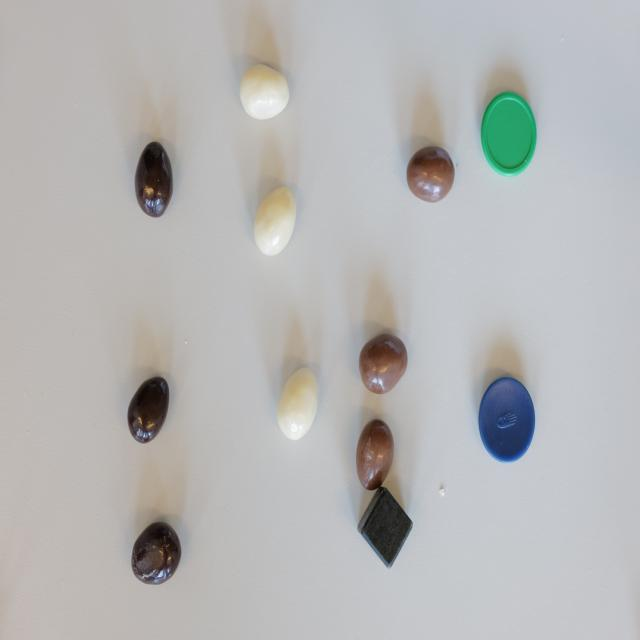Jelly_Black: (131, 522, 181, 584), (127, 377, 169, 444), (136, 142, 172, 216)
Jelly_Milk: (358, 332, 408, 398), (354, 418, 394, 493), (406, 144, 455, 204)
Jelly_White: (276, 364, 320, 442), (252, 185, 298, 258), (240, 62, 289, 121)
